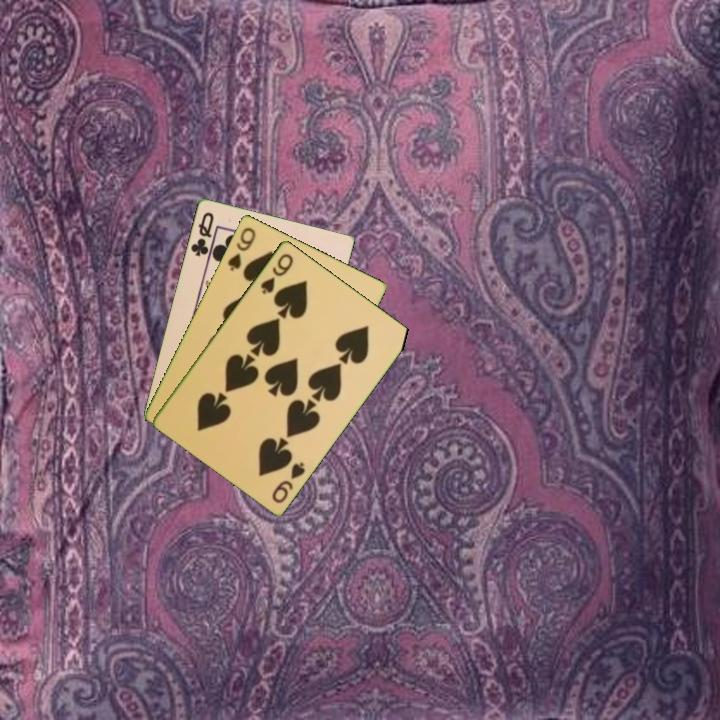9s: (268, 458, 308, 506), (257, 249, 296, 297), (224, 223, 259, 274)
Qc: (187, 208, 217, 259)
